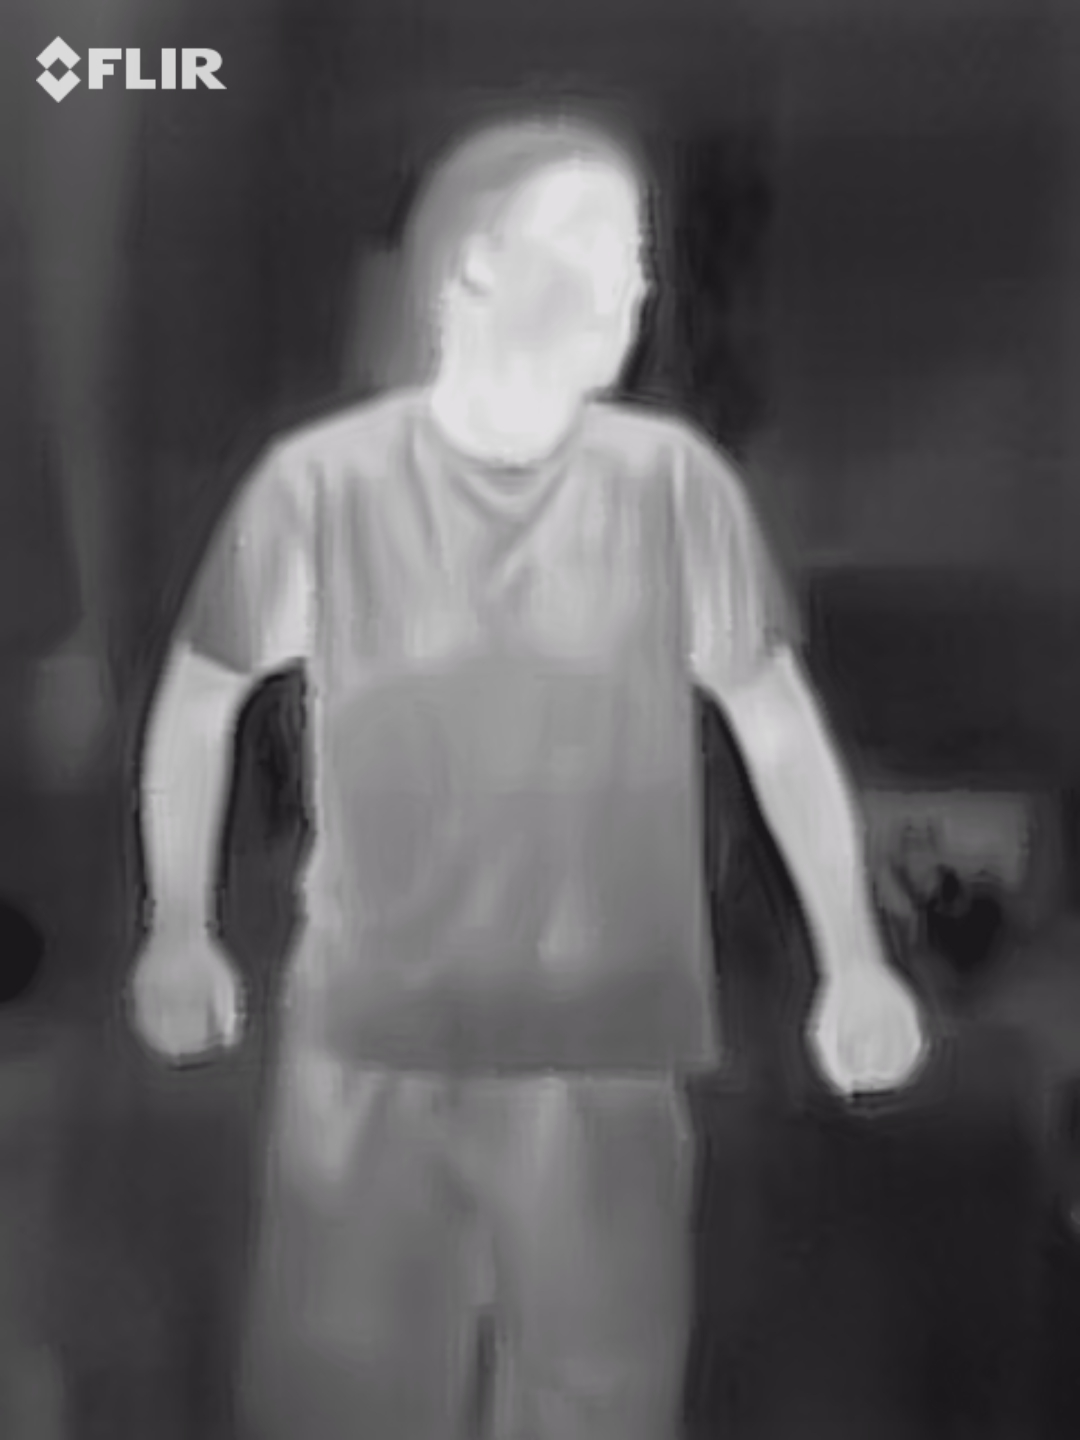head: (414, 121, 645, 401)
